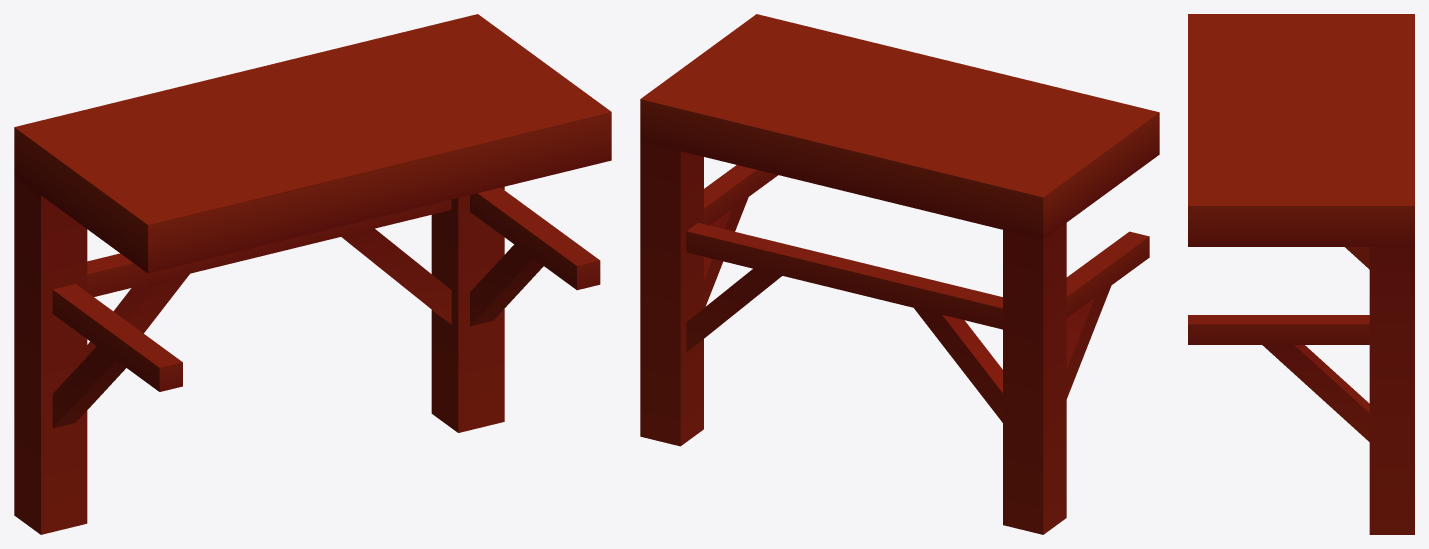
File: structure-platform.fbx
3 views of the same model, side by side, from view 1: azimuth 30°, elevation 25°; view 2: azimuth 150°, elevation 25°; view 3: azimuth 270°, elevation 25° (orthographic). The views are drawn at different scales.
Visible parts, largest first — view 1: structure-platform; view 2: structure-platform; view 3: structure-platform.
Boxes of the visible parts, <box> form: structure-platform: <box>14,14,611,534</box>; structure-platform: <box>640,14,1159,534</box>; structure-platform: <box>1188,14,1414,534</box>.
Bounding box in the file's own units: 10 × 8 × 5.
